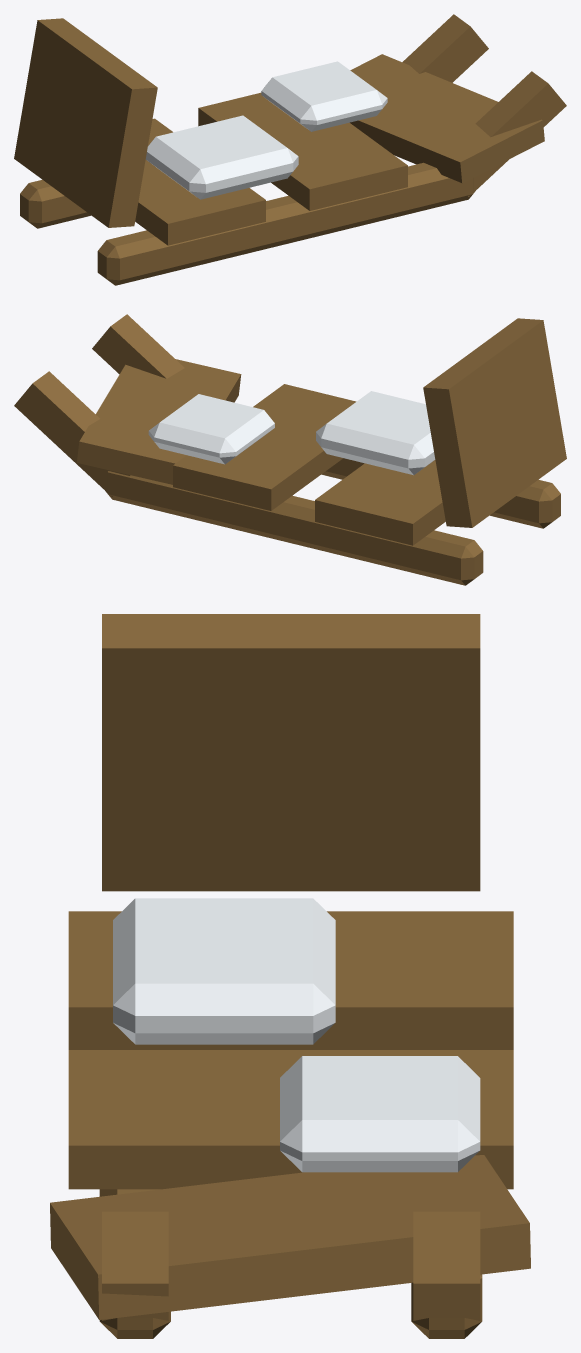
The model's file is env_r2_broken_sled.glb.
3 renders of one model, top to bottom at view 1: azimuth 30°, elevation 25°; view 2: azimuth 150°, elevation 25°; view 3: azimuth 270°, elevation 25°, orthographic. The views are drawn at different scales.
Visible parts, largest first — view 1: env_r2_broken_sled; view 2: env_r2_broken_sled; view 3: env_r2_broken_sled.
Part boxes in pixels (bbox=[...]): env_r2_broken_sled: bbox=[14, 14, 566, 285]; env_r2_broken_sled: bbox=[14, 314, 566, 585]; env_r2_broken_sled: bbox=[50, 614, 530, 1338].
Bounding box in the file's own units: 2.2 × 0.9 × 1.
1 material, 1 textured.
